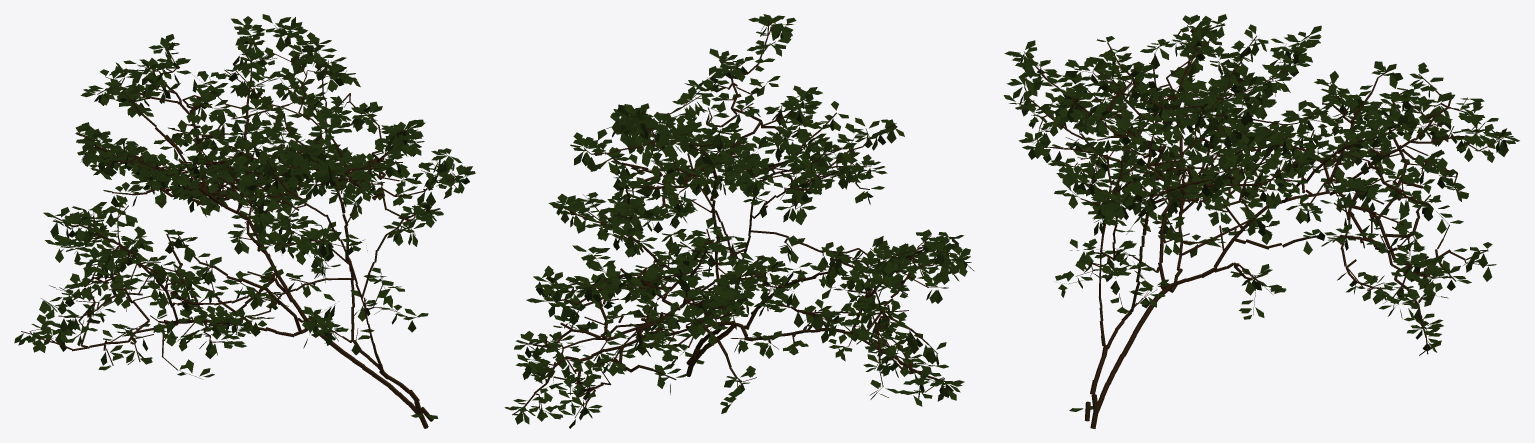
The model's file is 2022_tree_400.obj.
3 renders of one model, left to right at view 1: azimuth 30°, elevation 25°; view 2: azimuth 150°, elevation 25°; view 3: azimuth 270°, elevation 25°, orthographic. The views are drawn at different scales.
Parts seen in each view (by area): view 1: Leaves, TrunkAndBranches; view 2: Leaves, TrunkAndBranches; view 3: Leaves, TrunkAndBranches.
Part boxes in pixels (<box>): Leaves: <box>14,14,475,418</box>; TrunkAndBranches: <box>21,25,467,428</box>; Leaves: <box>504,14,974,428</box>; TrunkAndBranches: <box>512,21,969,417</box>; Leaves: <box>1003,14,1519,411</box>; TrunkAndBranches: <box>1015,23,1504,428</box>.
Bounding box in the file's own units: 8.2 × 6.99 × 9.08.
